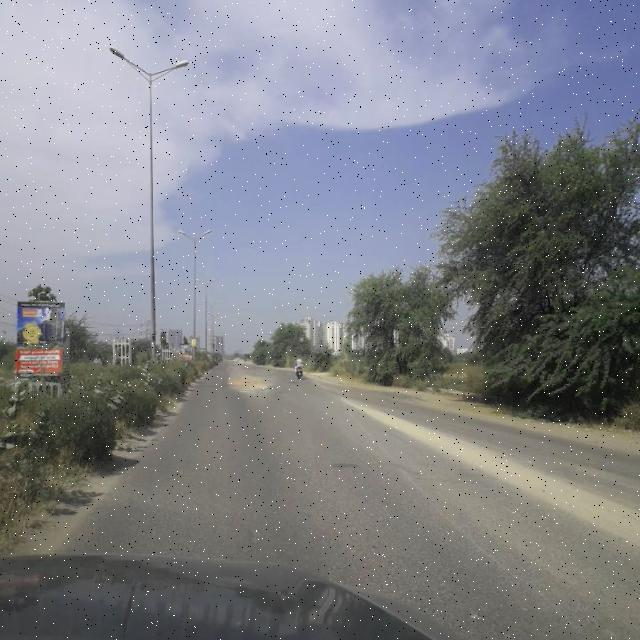D00: (393, 452, 576, 626)
D40: (223, 368, 282, 399)
